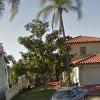Palm tree: (18, 3, 80, 38)
